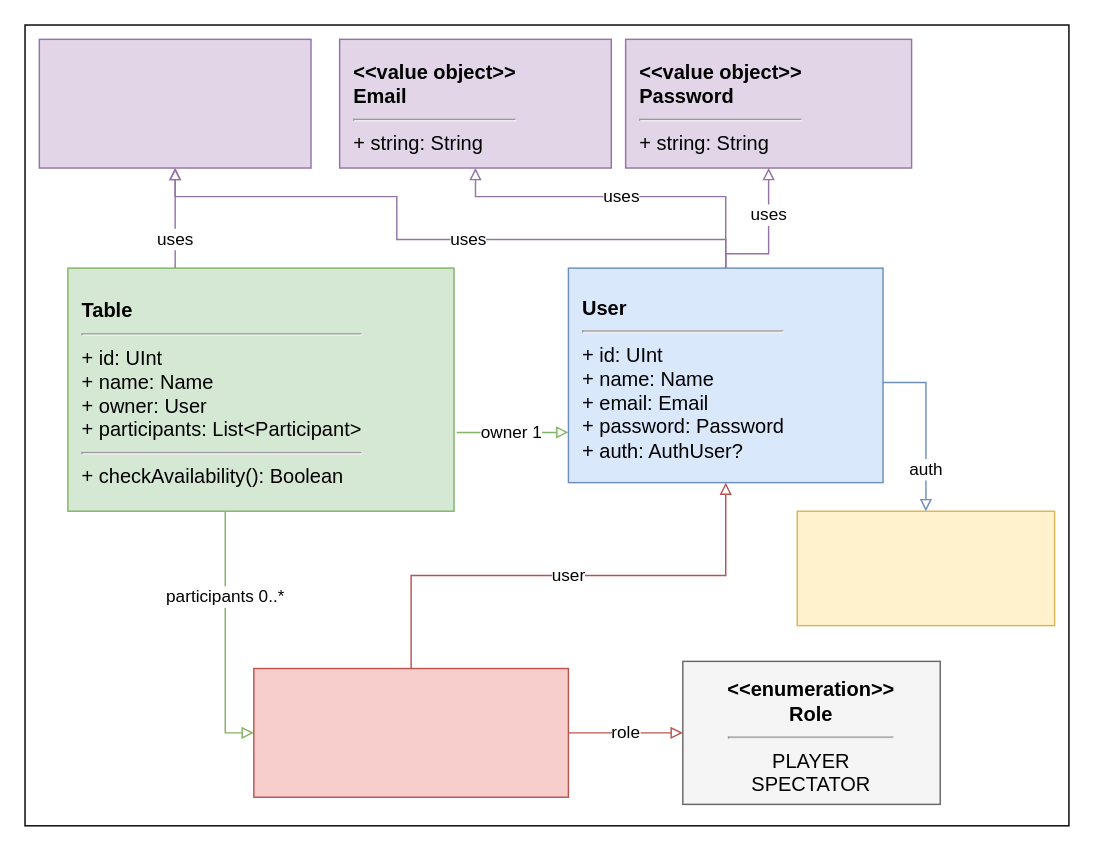
The diagram is 1094 pixels wide and 851 high, and some of its shapes have lost their labels. The centre of each missing label's shape, as x and y in pixels:
"<<value object>> Name + string: String" belongs at pixel 174 103.
"AuthUser + token: String" belongs at pixel 925 568.
"Participant + user: User + role: Role" belongs at pixel 410 732.
